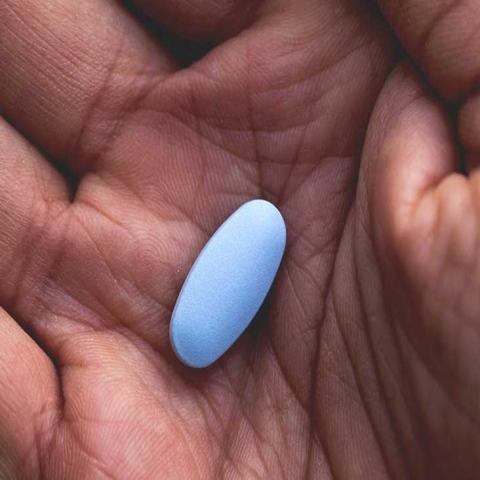Pill: (154, 172, 309, 409)
